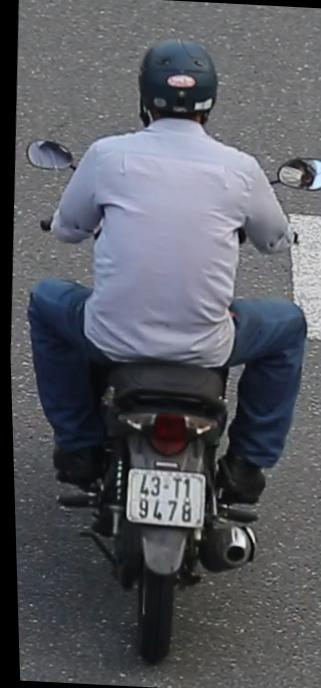LP: (119, 464, 207, 536)
helmet: (131, 32, 225, 138)
